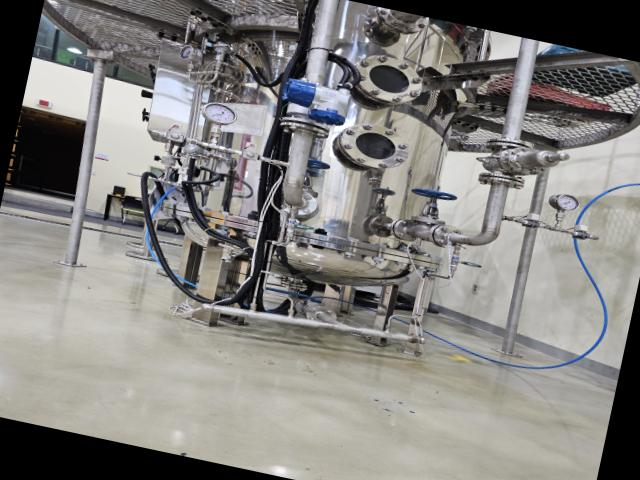Flange: (341, 47, 428, 112), (329, 116, 416, 178)
Flush Ring: (261, 180, 326, 224), (368, 6, 432, 40), (272, 111, 334, 142), (424, 220, 470, 254), (476, 167, 530, 194), (479, 132, 534, 156), (384, 214, 424, 246), (300, 301, 340, 330)
GasRegulator: (170, 31, 256, 100)
Nuts: (154, 125, 200, 150), (230, 145, 268, 166), (512, 215, 548, 234), (564, 227, 596, 243)
Piston Valve: (400, 178, 460, 229), (298, 155, 336, 196)
Pressure Gage: (192, 96, 243, 149), (544, 190, 582, 228)
